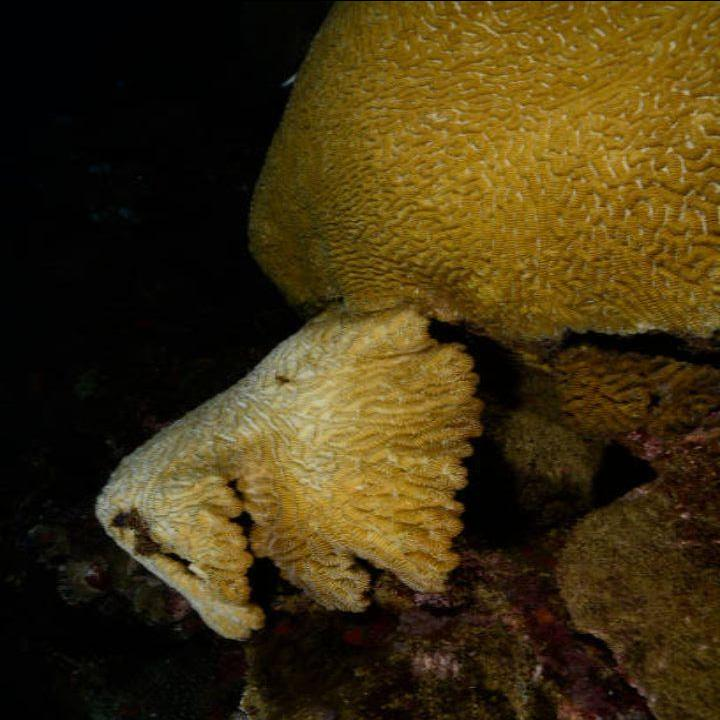Bleached disease: (80, 301, 481, 644)
Healthy Coral: (260, 22, 719, 274), (499, 354, 692, 693)
